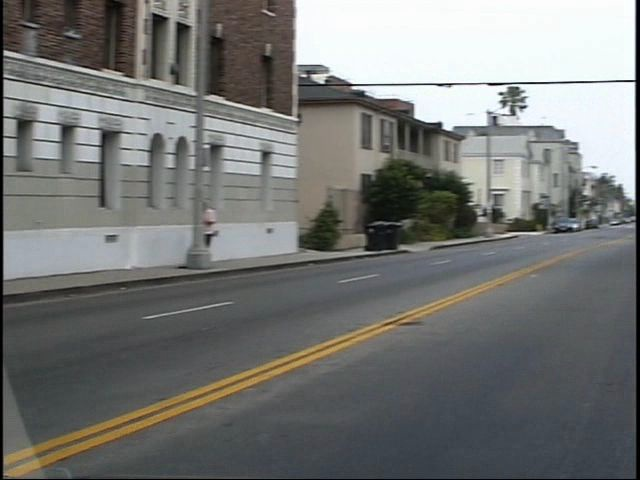person: (208, 191, 242, 265)
